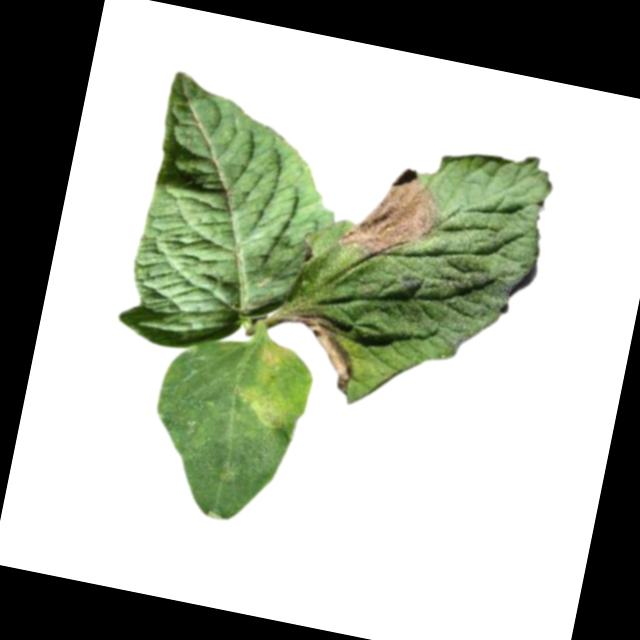Late_blight: (338, 158, 449, 268), (231, 335, 319, 437), (276, 305, 367, 397)
healthy: (114, 70, 357, 376)
